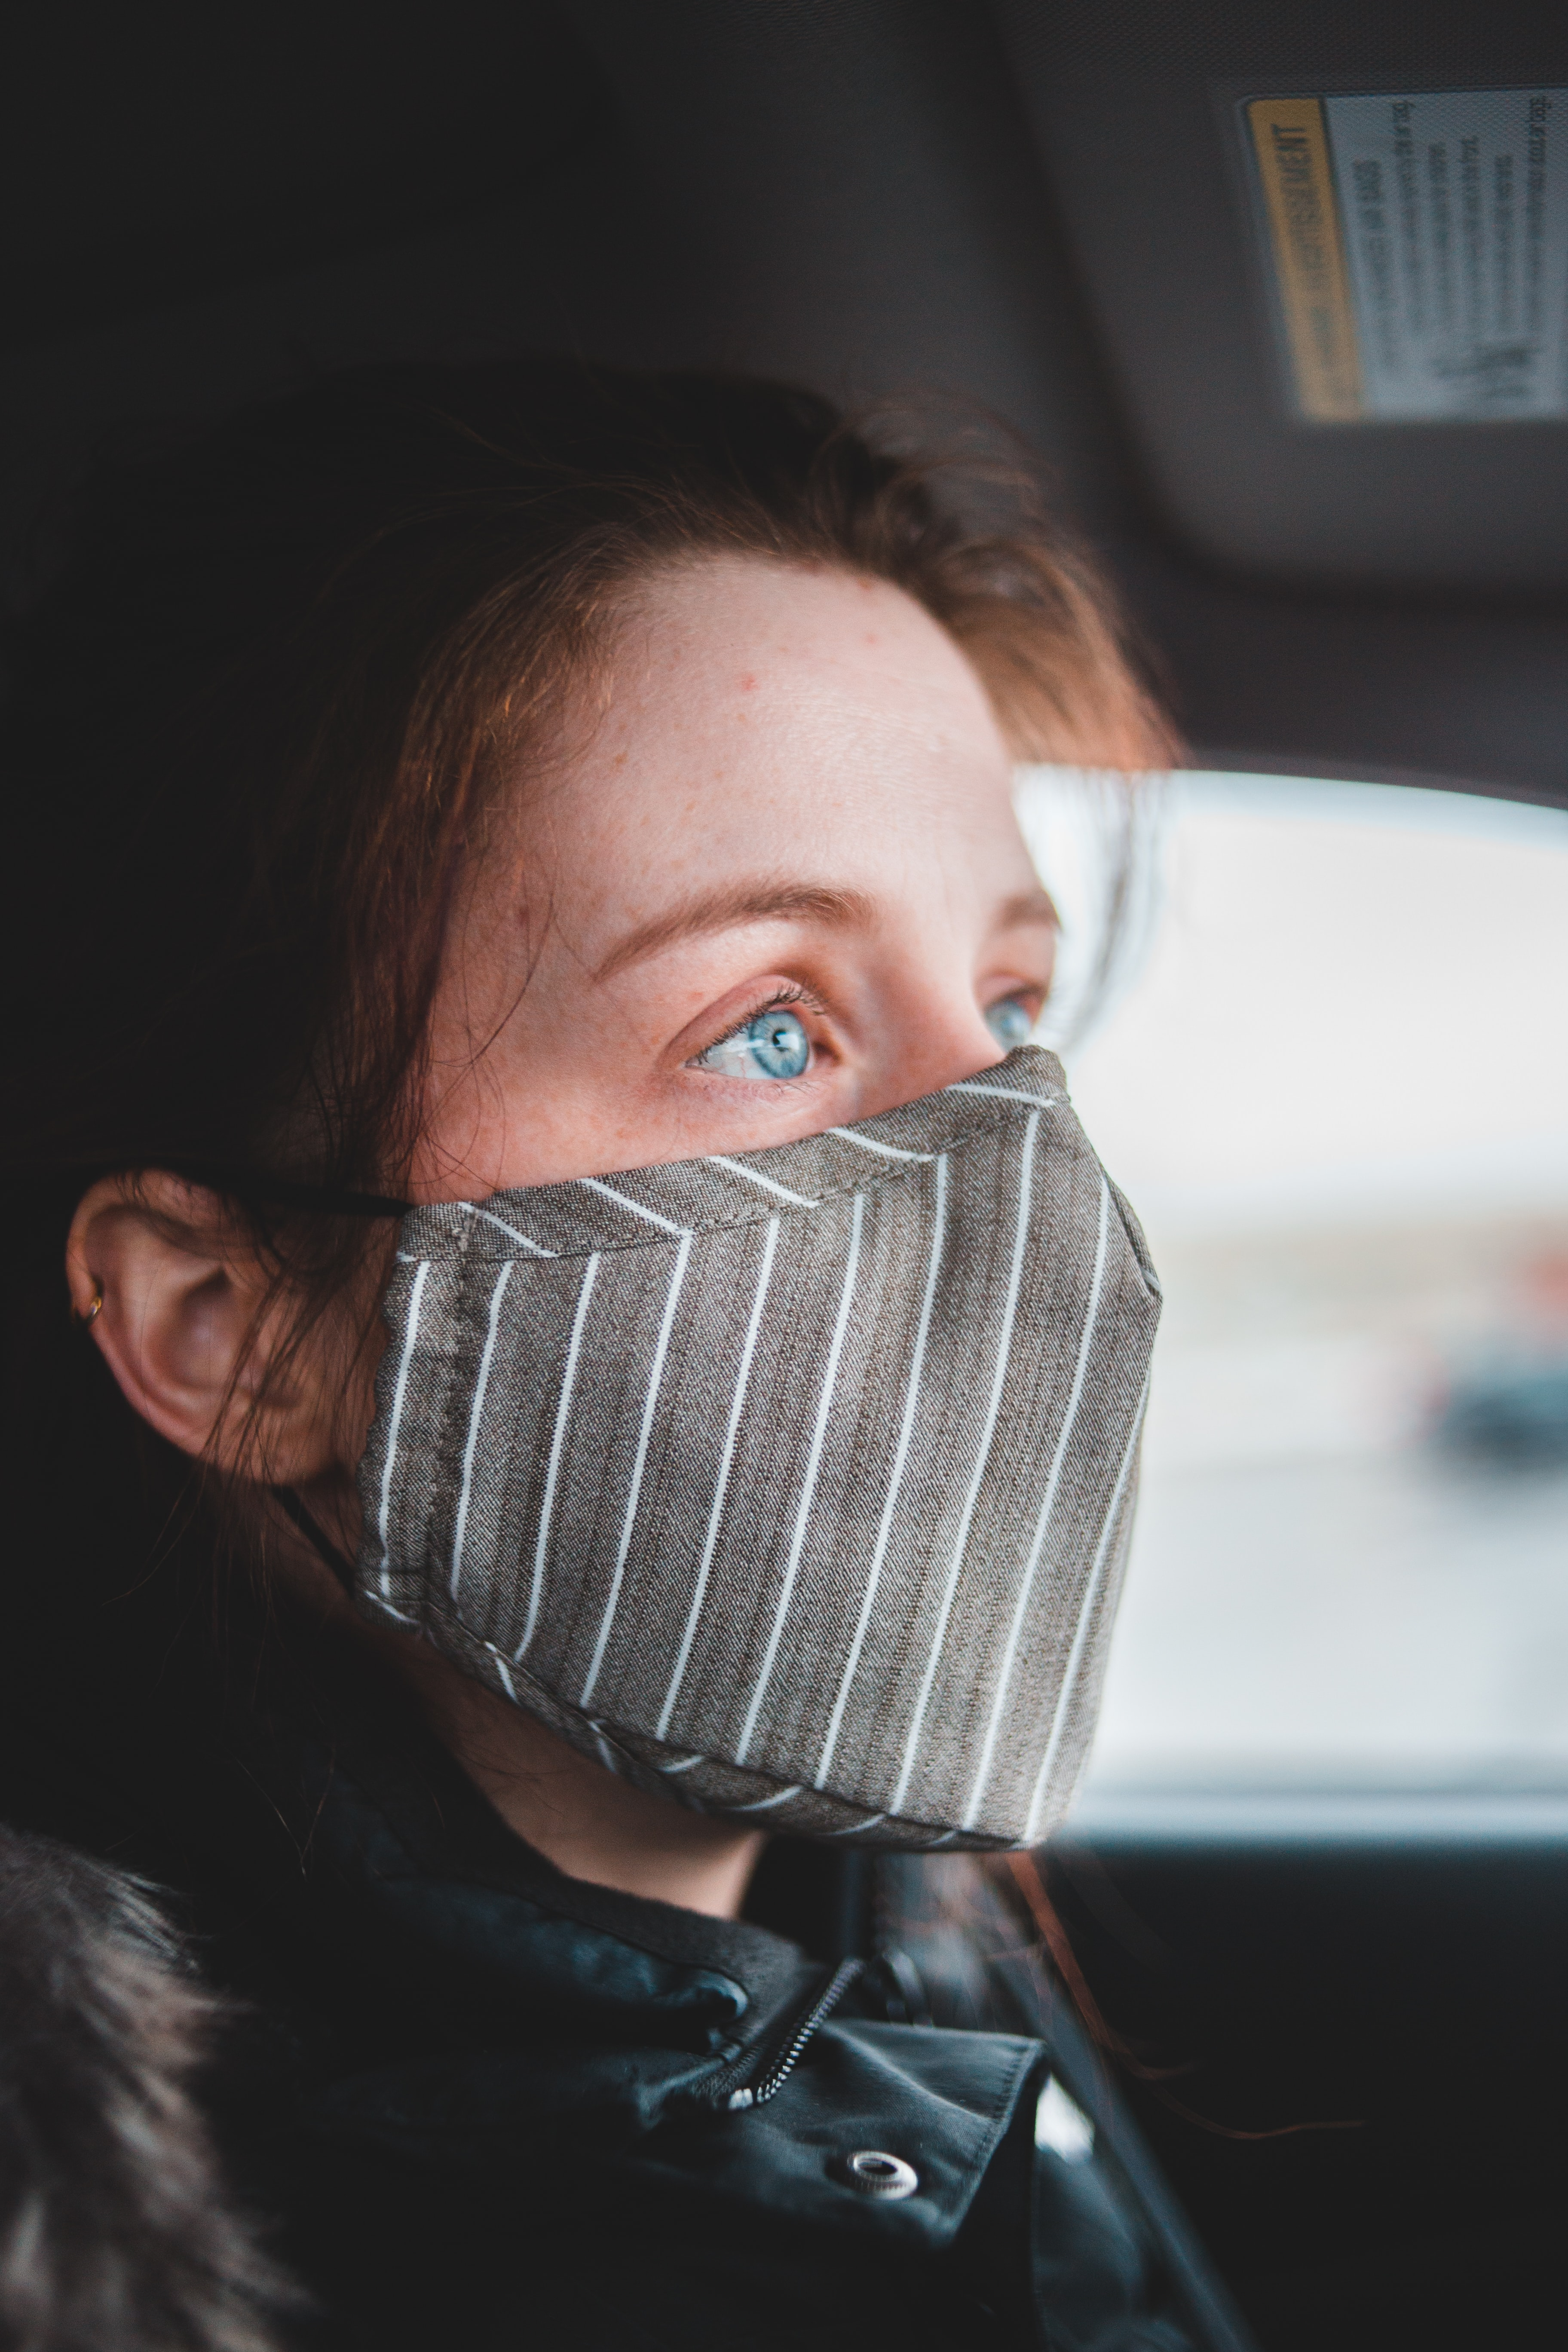mask: (322, 1059, 1144, 1857)
person: (8, 337, 1313, 2352)
